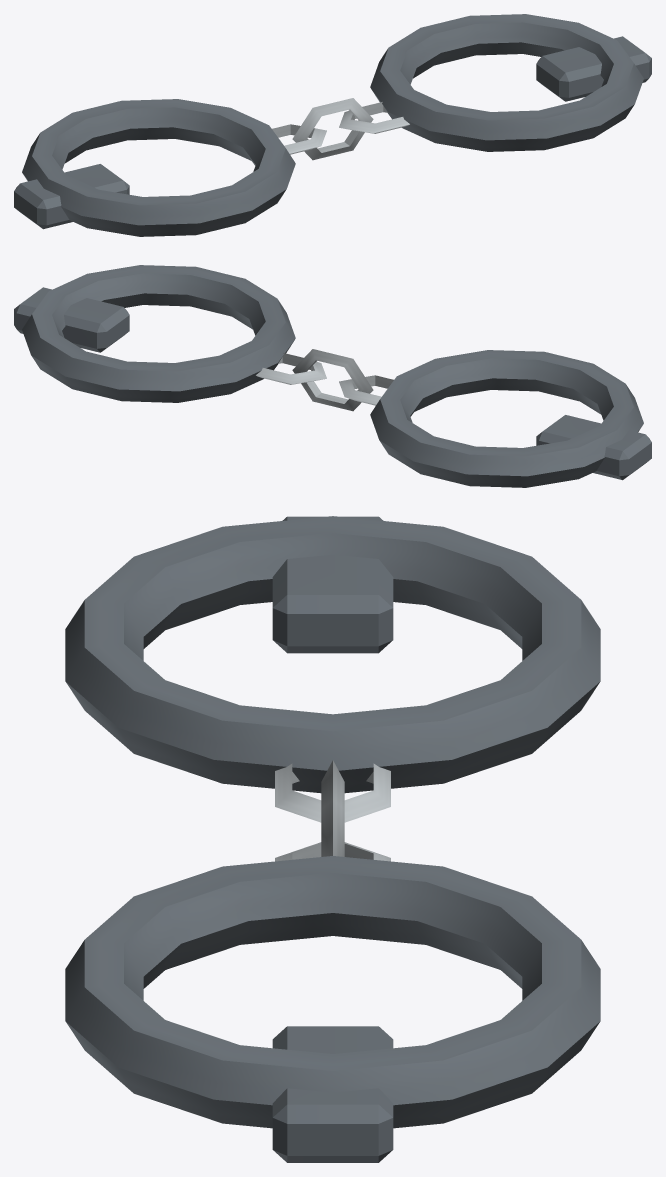
File: handcuffs.fbx
The picture shows the model from 3 angles, top to bottom: view 1: azimuth 30°, elevation 25°; view 2: azimuth 150°, elevation 25°; view 3: azimuth 270°, elevation 25°; orthographic projection. The views are drawn at different scales.
Parts seen in each view (by area): view 1: handcuffs; view 2: handcuffs; view 3: handcuffs.
Boxes of the visible parts, left/top/right/bottom form: handcuffs: left=14, top=14, right=651, bottom=236; handcuffs: left=14, top=265, right=651, bottom=487; handcuffs: left=65, top=516, right=600, bottom=1162.
Bounding box in the file's own units: 0.212 × 0.0173 × 0.0799.
1 material, 1 textured.
